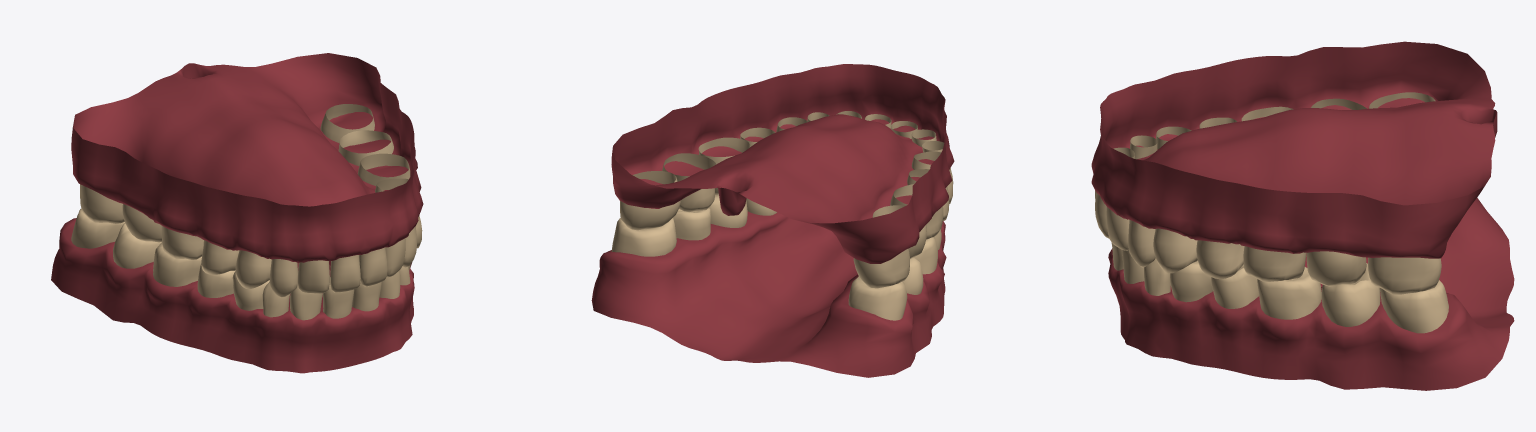
The model's file is jaw-desktop.glb.
The picture shows the model from 3 angles, left to right: view 1: azimuth 30°, elevation 25°; view 2: azimuth 150°, elevation 25°; view 3: azimuth 270°, elevation 25°; orthographic projection. The views are drawn at different scales.
Parts seen in each view (by area): view 1: gum.upper, gum.lower, tooth.46, tooth.47, tooth.48, tooth.18, tooth.14, tooth.16, tooth.27, tooth.12, tooth.11, tooth.26 (+12 smaller); view 2: gum.upper, gum.lower, tooth.38, tooth.48, tooth.28, tooth.18, tooth.27, tooth.37, tooth.36, tooth.26, tooth.16, tooth.46 (+3 smaller); view 3: gum.upper, gum.lower, tooth.38, tooth.28, tooth.36, tooth.37, tooth.27, tooth.26, tooth.25, tooth.24, tooth.35, tooth.34 (+6 smaller).
Part boxes in pixels (x1,y1,x2,y2): gum.upper: (71,53,423,262); gum.lower: (51,218,414,373); tooth.46: (153,242,201,286); tooth.47: (113,223,161,268); tooth.48: (71,209,124,248); tooth.18: (80,184,124,223); tooth.14: (235,250,271,288); tooth.16: (161,225,203,259); tooth.27: (338,130,393,165); tooth.12: (297,260,329,293); tooth.11: (330,255,360,292); tooth.26: (358,153,410,185); gum.upper: (611,64,954,263); gum.lower: (591,211,946,377); tooth.38: (611,218,676,256); tooth.48: (848,276,907,320); tooth.28: (620,171,680,230); tooth.18: (853,249,909,288); tooth.27: (662,153,716,212); tooth.37: (673,207,710,240); tooth.36: (709,195,747,227); tooth.26: (698,137,750,195); tooth.16: (890,184,943,239); tooth.46: (914,237,937,274); gum.upper: (1091,41,1497,258); gum.lower: (1108,197,1514,390); tooth.38: (1379,280,1448,333); tooth.28: (1368,257,1441,294); tooth.36: (1257,267,1321,319); tooth.37: (1321,263,1380,326); tooth.27: (1306,251,1366,286); tooth.26: (1243,246,1305,281); tooth.25: (1196,240,1244,279); tooth.24: (1153,228,1197,273); tooth.35: (1211,264,1259,308); tooth.34: (1170,260,1212,302).
Size of the model in its own units: 0.711 by 0.4066 by 0.7181.
